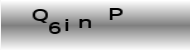6: (48, 21, 61, 34)
P: (108, 6, 122, 20)
Q: (32, 8, 49, 24)
i: (63, 18, 69, 31)
n: (77, 18, 91, 29)
